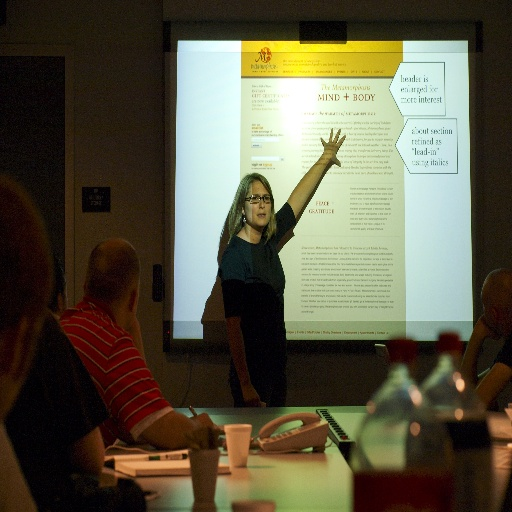hand: (188, 412, 220, 450), (319, 127, 344, 170), (477, 312, 500, 340), (242, 384, 259, 408), (127, 315, 140, 334)
